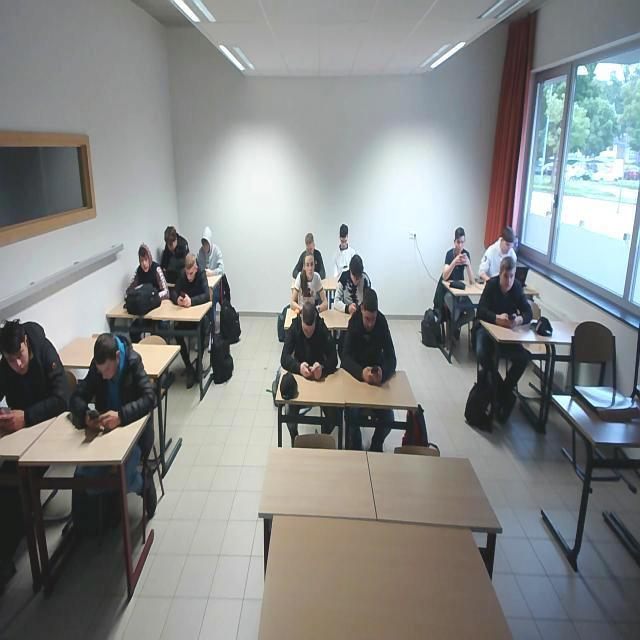Looking away: (0, 313, 36, 385), (160, 217, 180, 257), (334, 217, 352, 250), (502, 226, 518, 256), (300, 232, 320, 254), (198, 227, 212, 256)
Looking forward: (136, 244, 156, 278), (298, 256, 318, 290)
Phone use: (64, 308, 160, 432), (342, 294, 404, 390), (482, 250, 539, 330), (286, 304, 334, 379), (335, 251, 375, 325), (173, 256, 216, 306), (439, 232, 475, 289)
